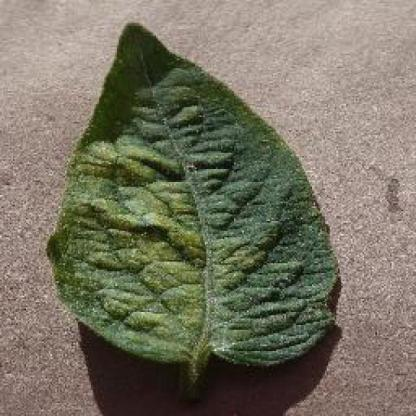Tomato_Spider_Mites: (49, 22, 338, 362)
